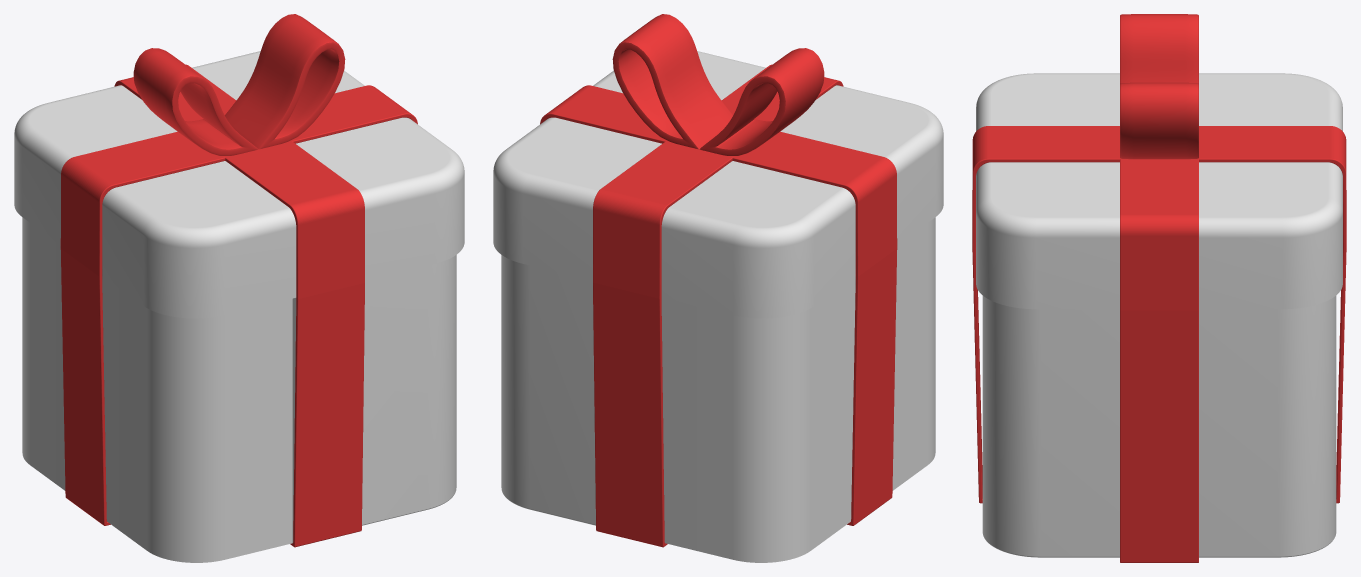
The model's file is Gift.03f878c7.gltf.
3 renders of one model, left to right at view 1: azimuth 30°, elevation 25°; view 2: azimuth 150°, elevation 25°; view 3: azimuth 270°, elevation 25°, orthographic.
Visible parts, largest first — view 1: Cube, Cube.003, Cube.001; view 2: Cube, Cube.003, Cube.001; view 3: Cube, Cube.003, Cube.001.
Part boxes in pixels (x1,y1,x2,y2): Cube: [22, 217, 456, 562]; Cube.003: [60, 14, 417, 547]; Cube.001: [14, 51, 464, 318]; Cube: [501, 217, 935, 562]; Cube.003: [540, 14, 897, 547]; Cube.001: [493, 51, 943, 318]; Cube: [982, 295, 1336, 557]; Cube.003: [972, 14, 1346, 562]; Cube.001: [976, 73, 1342, 309].
Bounding box in the file's own units: 211 × 272 × 212.
